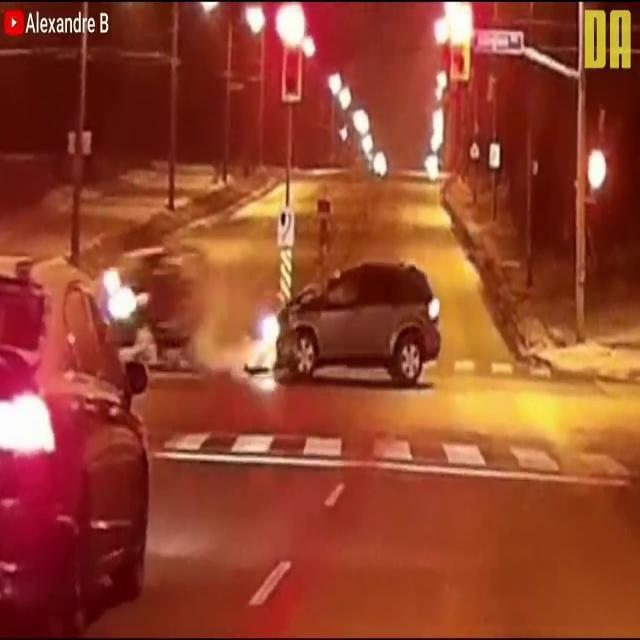accident: (80, 240, 442, 390)
